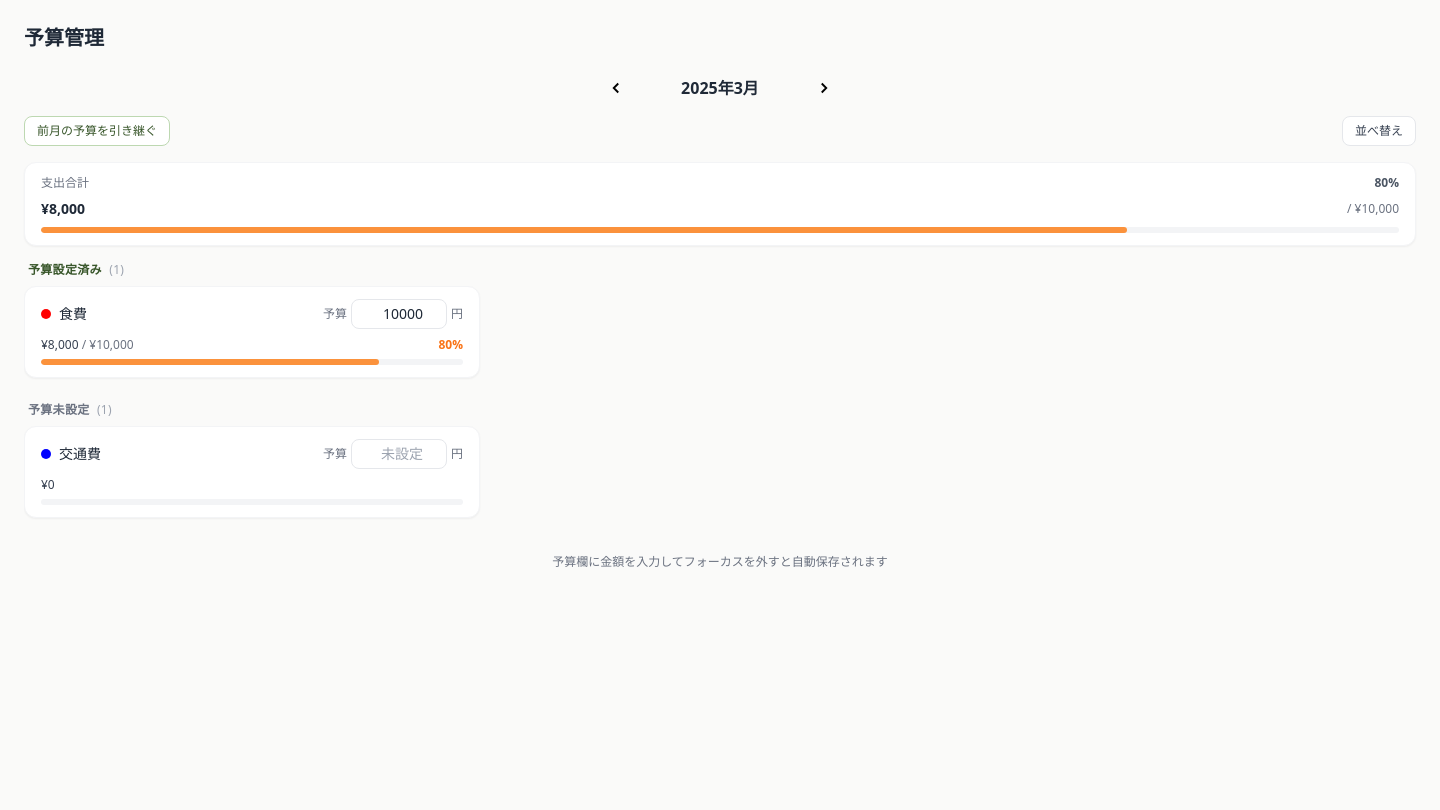
Test case: BudgetPage - 前月引き継ぎ › 補完成功時に件数トースト表示
Click the button "前月の予算を引き継ぐ".
click(97, 131)  # box [24,116,170,146]
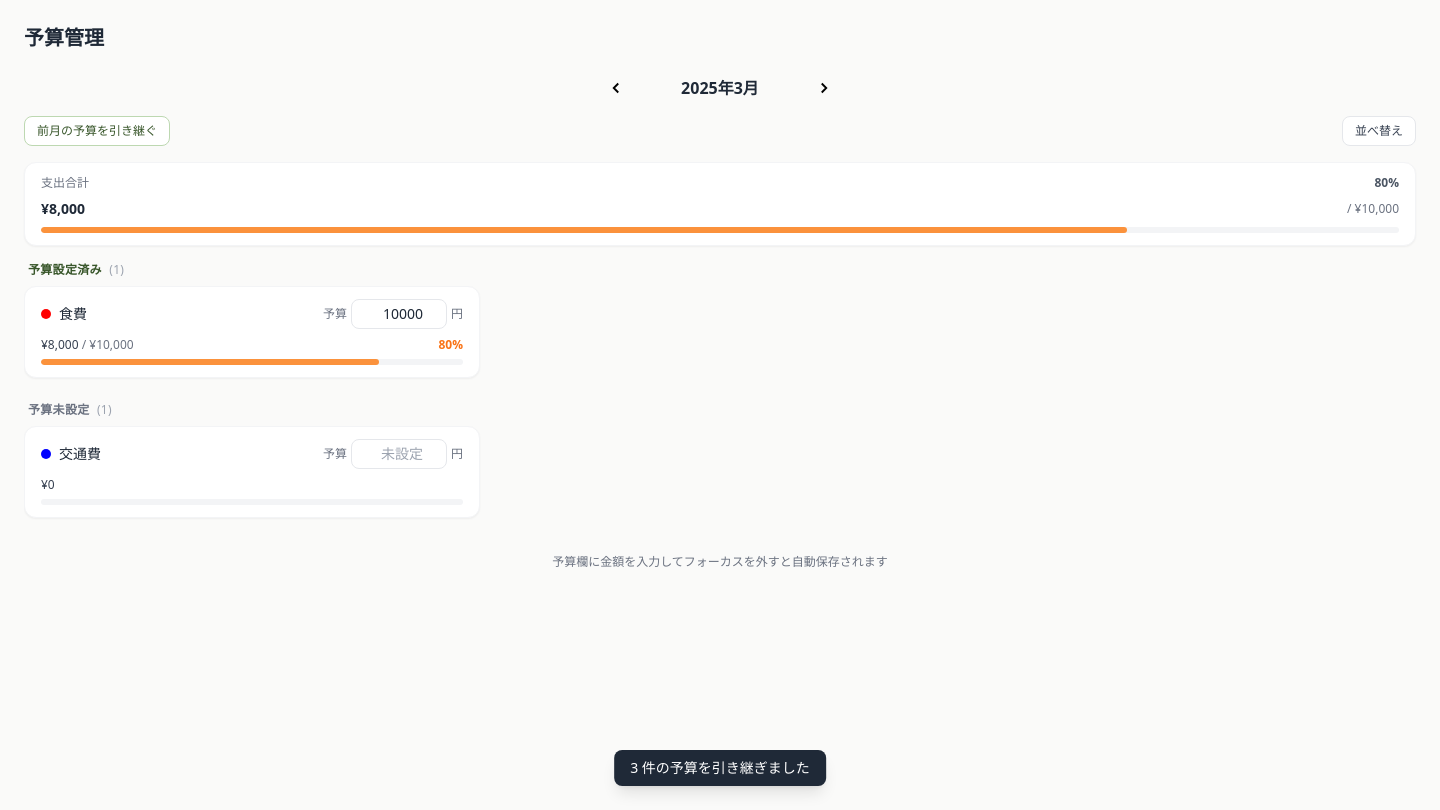
Check: the text "3 件の予算を引き継ぎました" is shown, box [614,750,826,786]
